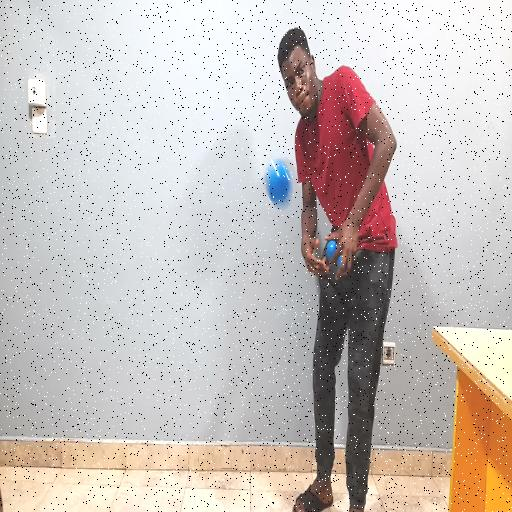plastic-ball: (262, 152, 300, 217)
